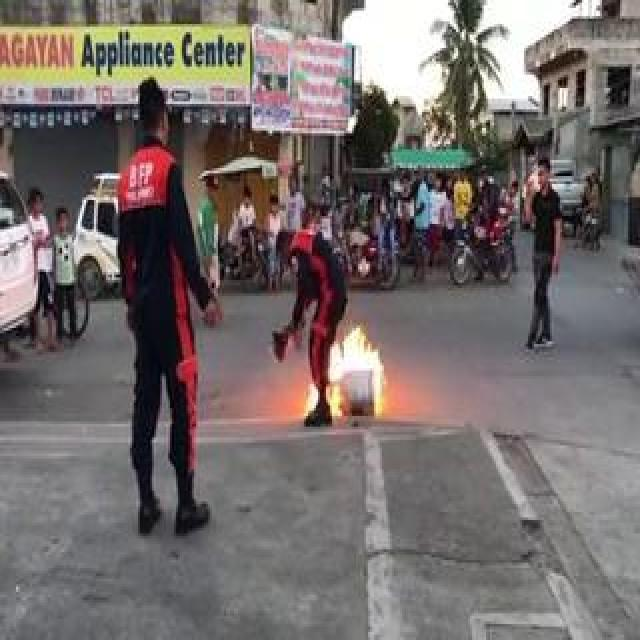Fire: (302, 342, 390, 432)
